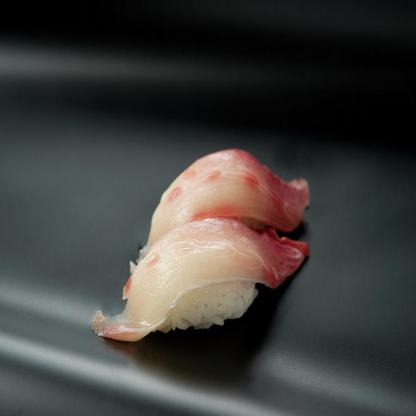hamachi: (84, 218, 319, 351)
